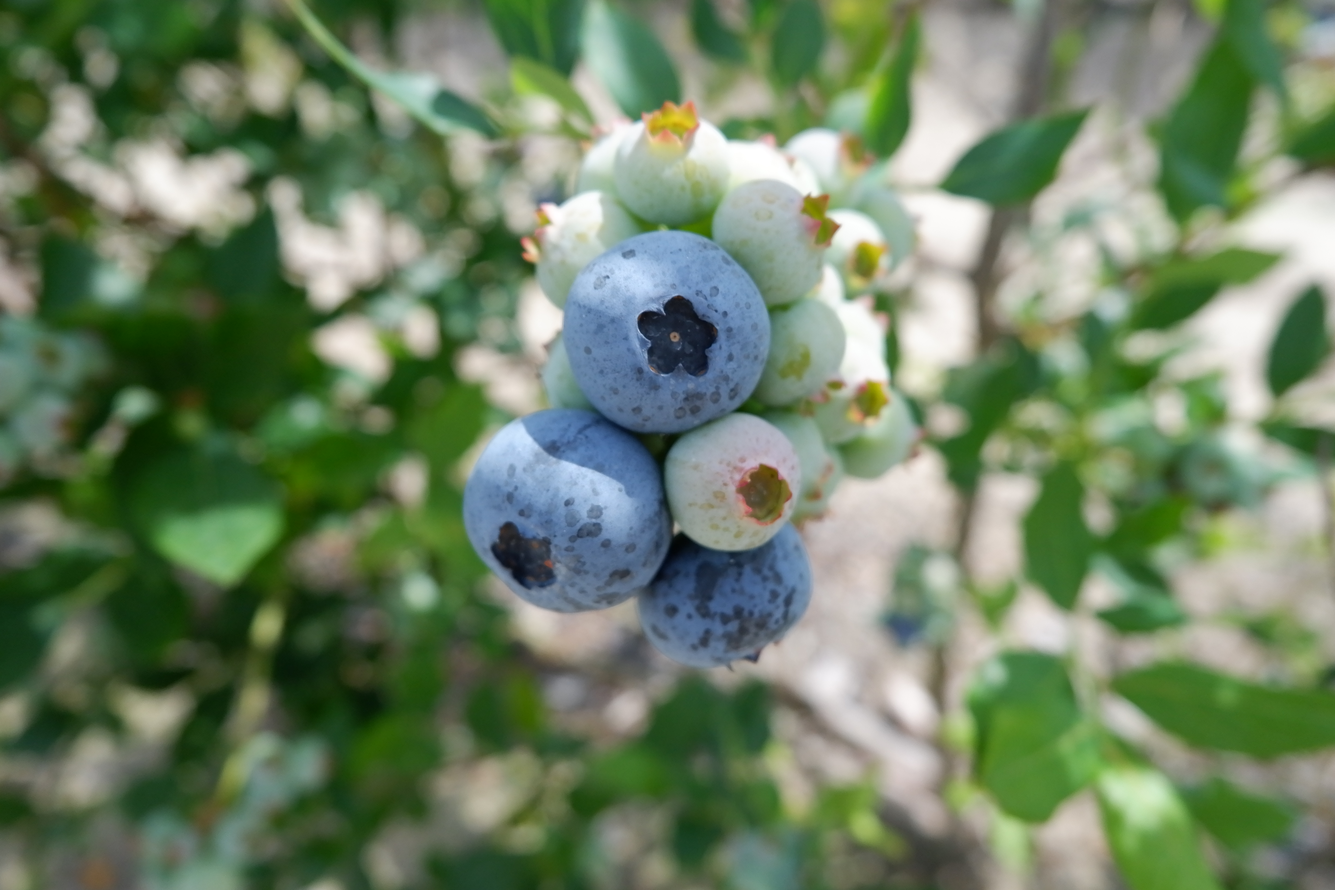Immature: (668, 416, 797, 551), (714, 179, 829, 302), (528, 193, 656, 302), (615, 104, 728, 224), (756, 301, 846, 403), (763, 408, 841, 503), (842, 391, 919, 477), (800, 379, 886, 440), (727, 135, 797, 194), (542, 330, 591, 410), (578, 133, 621, 197)
Mature: (467, 411, 666, 612), (569, 234, 768, 429), (639, 525, 811, 666)
